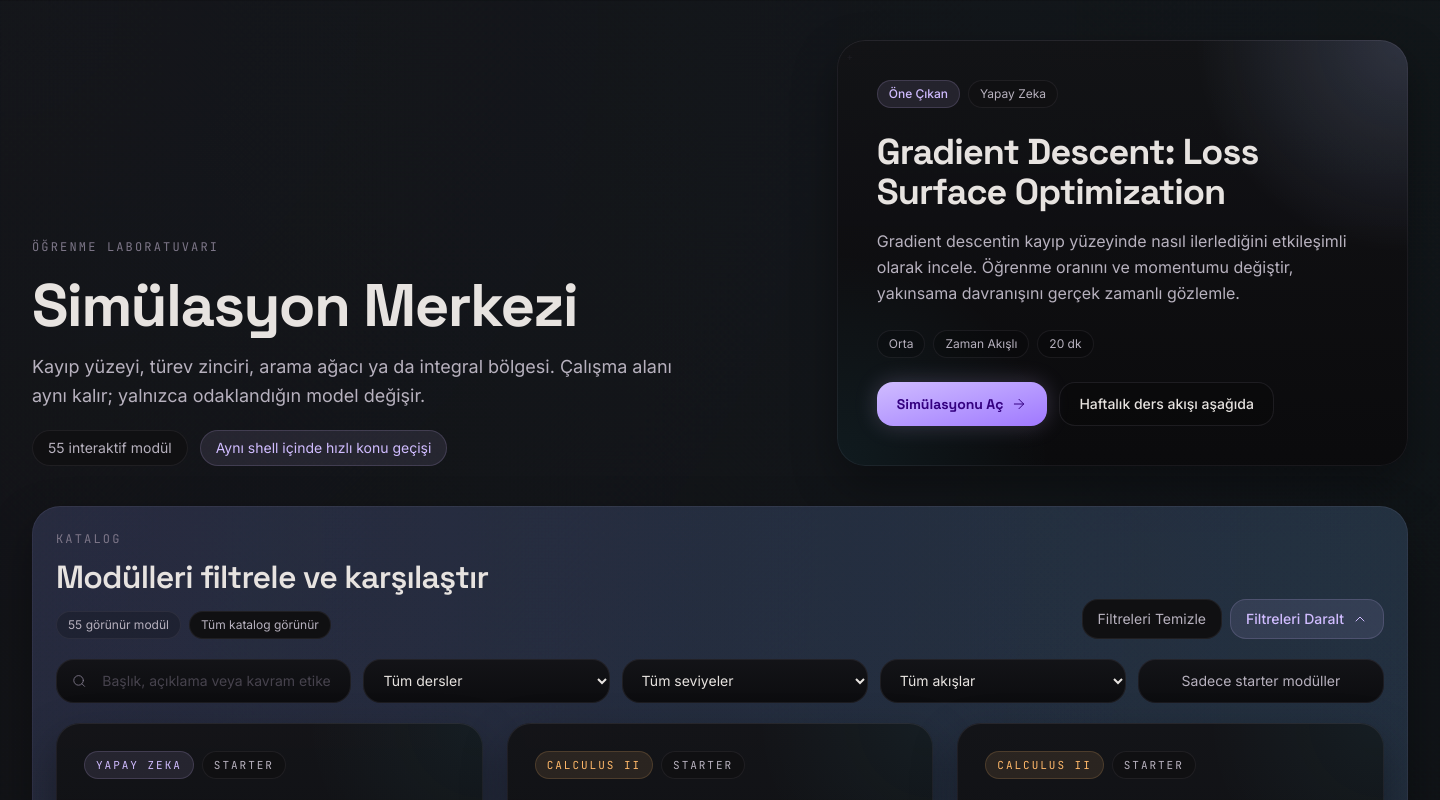
Test: Dashboard › filters modules by search query across metadata-backed catalog fields
In the field named "katalog araması": (217, 681) [98,671,335,691], type "jacobian"
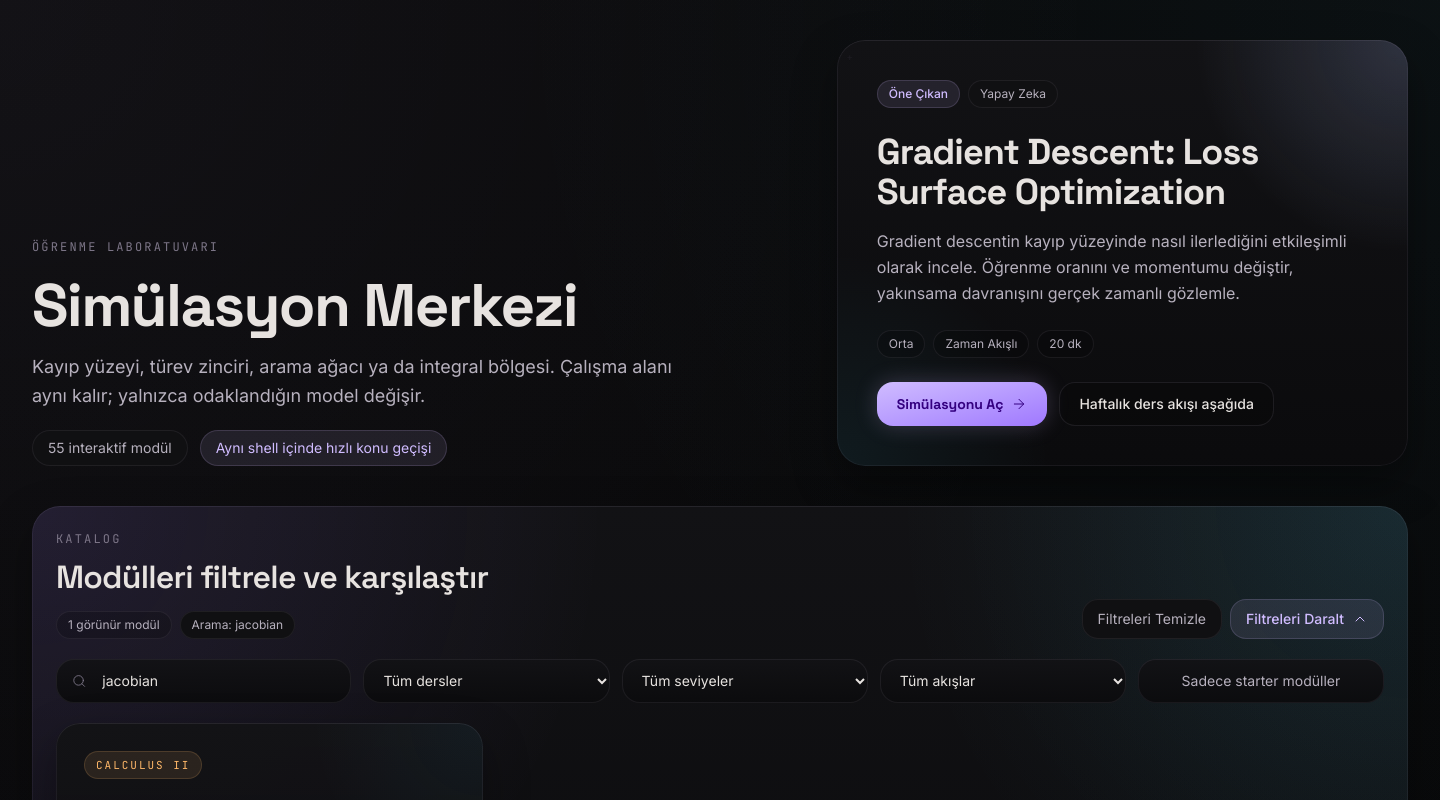
Result: the text "1 görünür modül" is shown at [56,611,172,639]
